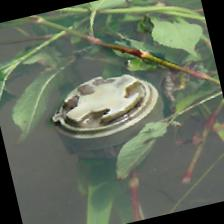M14: (44, 66, 172, 161)
